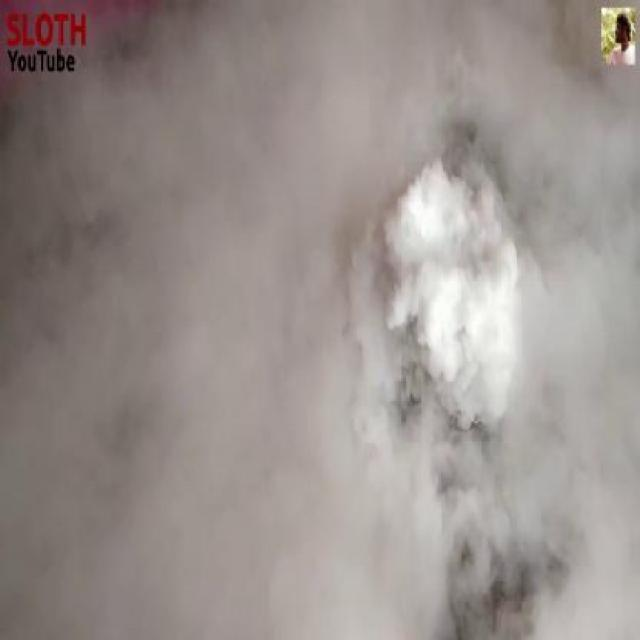smoke: (323, 128, 579, 524)
